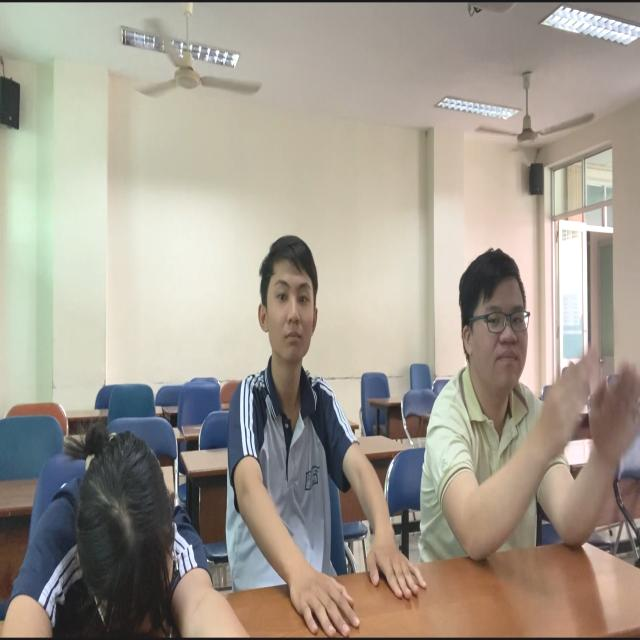sleep: (2, 434, 230, 640)
